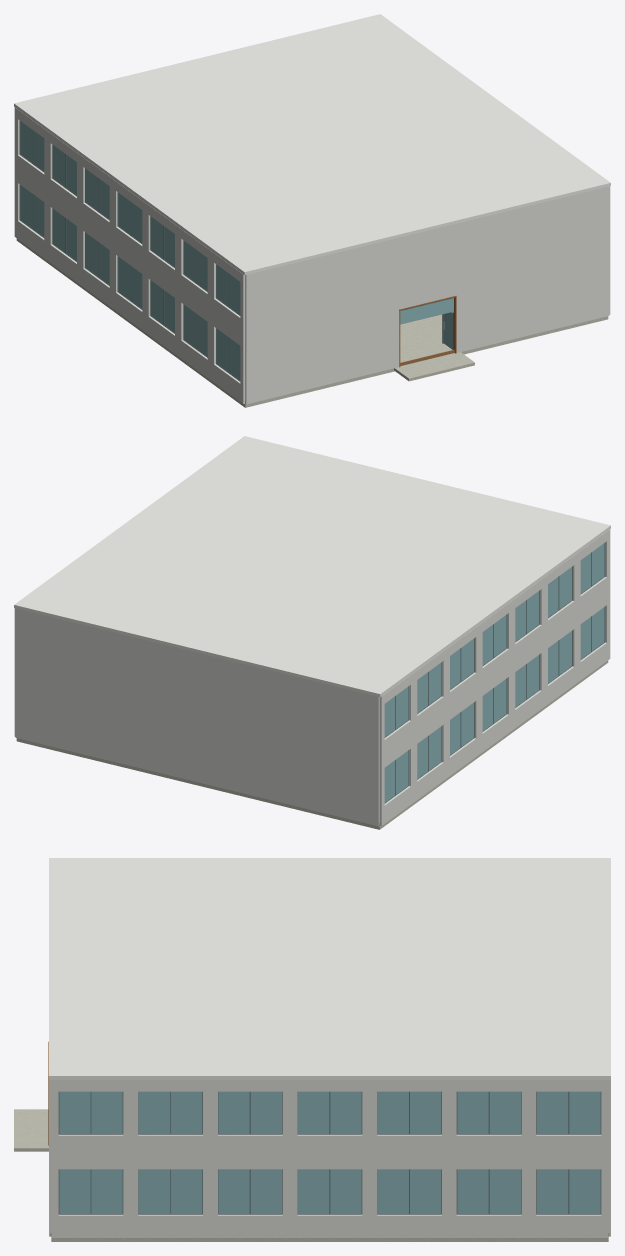
File: library.glb
The picture shows the model from 3 angles, top to bottom: view 1: azimuth 30°, elevation 25°; view 2: azimuth 150°, elevation 25°; view 3: azimuth 270°, elevation 25°; orthographic projection. The views are drawn at different scales.
Visible parts, largest first — view 1: interior-batch__interior-ceiling, interior-batch__interior-plaster, interior-batch__interior-glass, interior-batch__interior-terrazzo, interior-batch__interior-metal, interior-batch__interior-oak, interior-batch__interior-white; view 2: interior-batch__interior-ceiling, interior-batch__interior-plaster, interior-batch__interior-glass, interior-batch__interior-terrazzo, interior-batch__interior-metal, interior-batch__interior-white; view 3: interior-batch__interior-ceiling, interior-batch__interior-plaster, interior-batch__interior-glass, interior-batch__interior-terrazzo, interior-batch__interior-metal, interior-batch__interior-white.
Part boxes in pixels (x1,y1,x2,y2): interior-batch__interior-ceiling: [14, 14, 610, 275]; interior-batch__interior-plaster: [14, 107, 610, 404]; interior-batch__interior-glass: [20, 121, 453, 380]; interior-batch__interior-terrazzo: [16, 238, 608, 407]; interior-batch__interior-metal: [19, 120, 454, 381]; interior-batch__interior-oak: [245, 295, 456, 403]; interior-batch__interior-white: [18, 155, 240, 382]; interior-batch__interior-ceiling: [14, 436, 610, 697]; interior-batch__interior-plaster: [14, 529, 610, 826]; interior-batch__interior-glass: [384, 543, 604, 802]; interior-batch__interior-terrazzo: [16, 660, 608, 829]; interior-batch__interior-metal: [384, 542, 605, 803]; interior-batch__interior-white: [384, 589, 588, 804]; interior-batch__interior-ceiling: [49, 858, 610, 1079]; interior-batch__interior-plaster: [49, 1080, 610, 1237]; interior-batch__interior-glass: [59, 1091, 600, 1213]; interior-batch__interior-terrazzo: [14, 1109, 608, 1241]; interior-batch__interior-metal: [58, 1091, 601, 1214]; interior-batch__interior-white: [59, 1134, 600, 1215].
Size of the model in its own units: 22.22 by 7.92 by 25.7.
20 materials, 3 textured.
